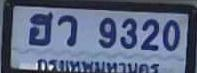0: (162, 19, 179, 50)
2: (140, 18, 158, 49)
3: (120, 17, 136, 48)
9: (98, 17, 115, 47)
A37: (57, 14, 76, 45)
A44: (28, 12, 52, 45)
BKK: (36, 57, 159, 73)
